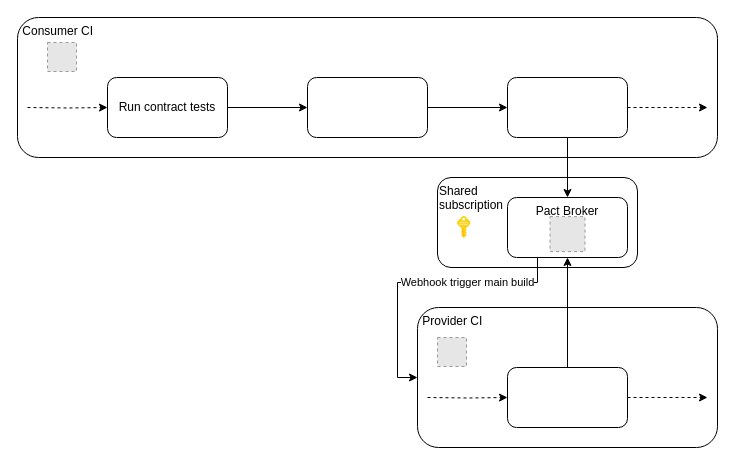
This 735x465 diagram has some shape labels left out. Grey dashed boxes stand in for pictures. Here are the shapes that lost their labels. From the top down, the centre of each, then its label:
At [367,107]: "Generate contract".
At [567,107]: "Publish contract (Main build only) Tag: main".
At [567,397]: "Run contract tests Tags: main, dev, test, preprod, prod".
